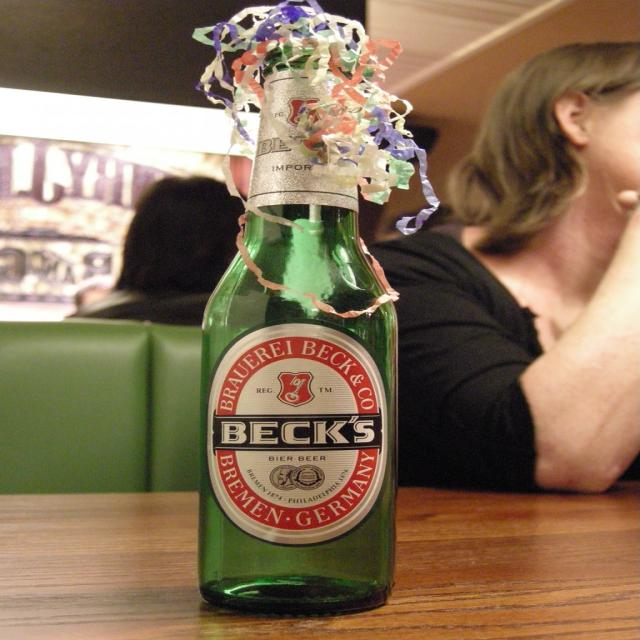becks: (207, 323, 388, 546)
